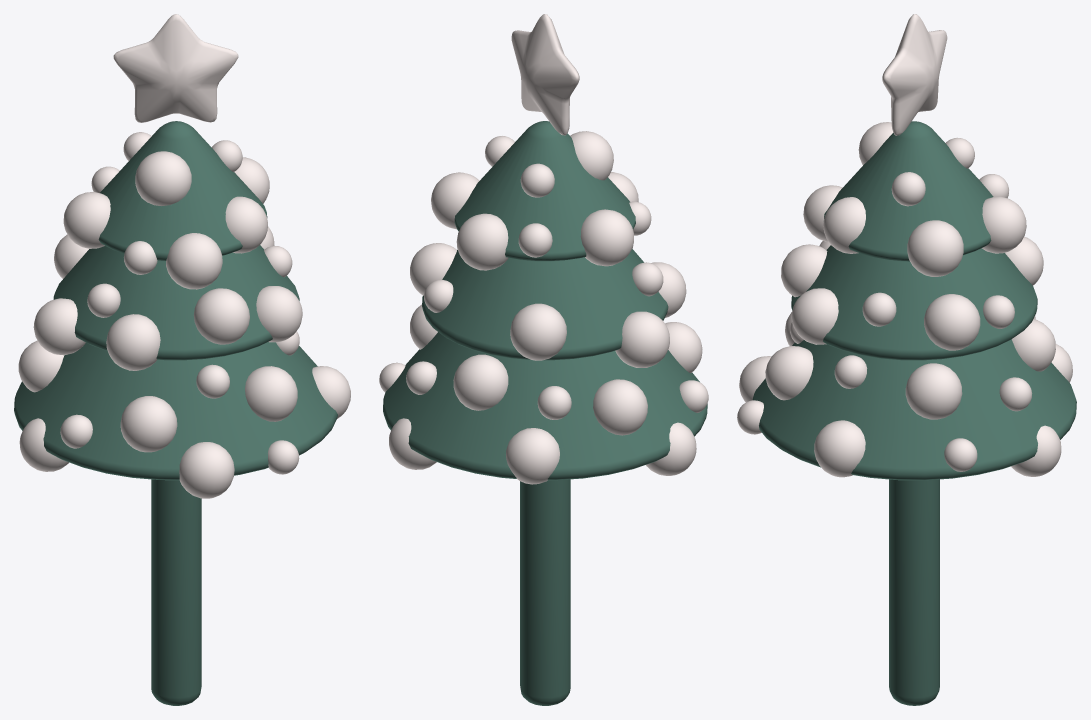
The model's file is icons8_christmas_tree_long_barrel.fbx.
The picture shows the model from 3 angles, left to right: view 1: azimuth 30°, elevation 25°; view 2: azimuth 150°, elevation 25°; view 3: azimuth 270°, elevation 25°; orthographic projection.
Visible parts, largest first — view 1: icons8_christmas_tree_long_barrel; view 2: icons8_christmas_tree_long_barrel; view 3: icons8_christmas_tree_long_barrel.
Part boxes in pixels (left/top/right/bottom): icons8_christmas_tree_long_barrel: left=14, top=14, right=350, bottom=705; icons8_christmas_tree_long_barrel: left=379, top=14, right=708, bottom=705; icons8_christmas_tree_long_barrel: left=737, top=14, right=1076, bottom=705.
Bounding box in the file's own units: 196 × 442 × 199.
